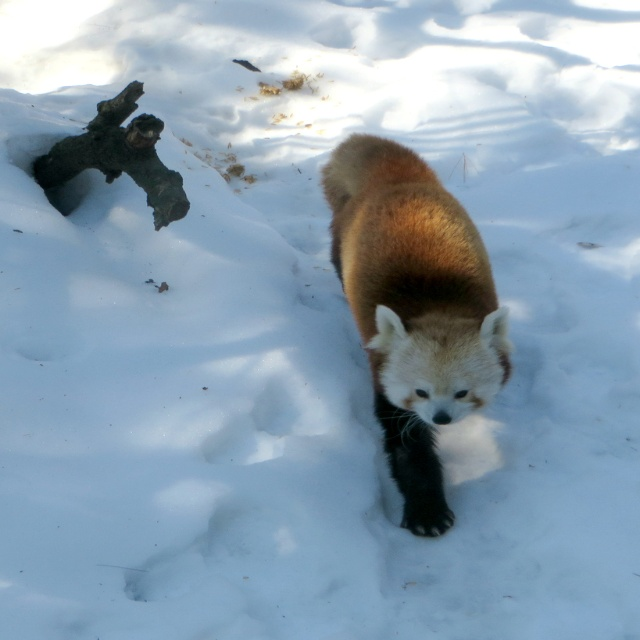Red panda: (319, 131, 514, 532)
